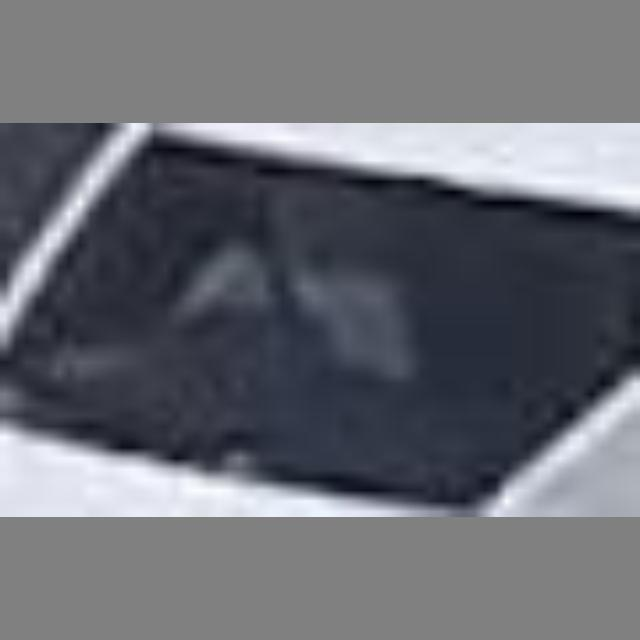pakai: (192, 198, 427, 400)
